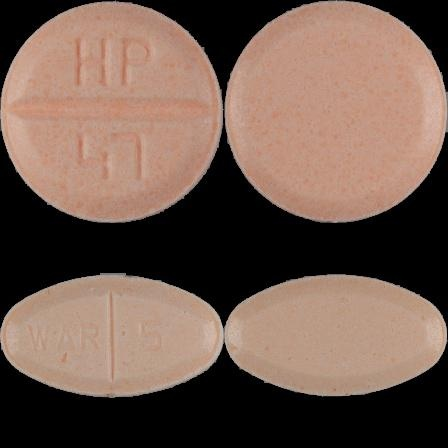64725-0047: (0, 0, 224, 224)
